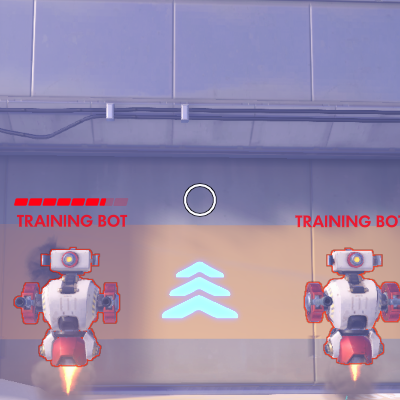hpbar: (13, 197, 128, 207)
